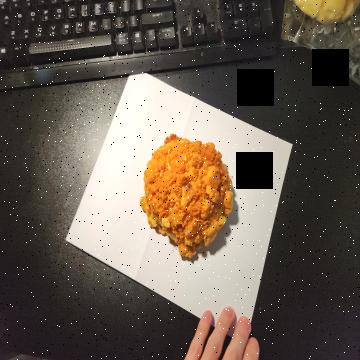soboru_bread: (138, 127, 234, 264)
